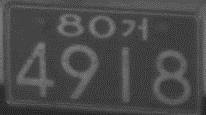0: (88, 13, 117, 39)
1: (110, 46, 142, 104)
4: (15, 39, 55, 98)
8: (151, 48, 191, 107), (56, 12, 84, 37)
9: (59, 43, 100, 99)
거: (120, 17, 149, 41)
